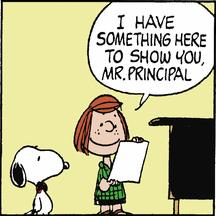snoopy: (10, 145, 70, 215)
